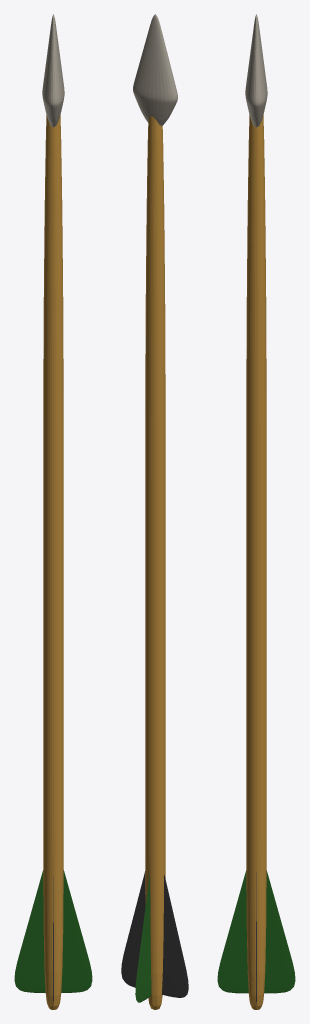
Rendered from arrow.fbx.
3 views of the same model, side by side, from view 1: azimuth 90°, elevation 25°; view 2: azimuth 150°, elevation 25°; view 3: azimuth 270°, elevation 25° (orthographic).
Visible parts, largest first — view 1: Object_1, Object_3, Object_2; view 2: Object_1, Object_4, Object_2, Object_3; view 3: Object_1, Object_3, Object_2.
Part boxes in pixels (x1,y1,x2,y2): Object_1: [43, 114, 63, 1009]; Object_3: [14, 870, 92, 992]; Object_2: [42, 14, 64, 127]; Object_1: [145, 116, 165, 1009]; Object_4: [121, 871, 188, 997]; Object_2: [133, 14, 177, 126]; Object_3: [135, 874, 151, 1002]; Object_1: [246, 114, 266, 1009]; Object_3: [217, 870, 295, 993]; Object_2: [245, 14, 267, 127].
Bounding box in the file's own units: 0.9573 × 0.9573 × 13.47.
